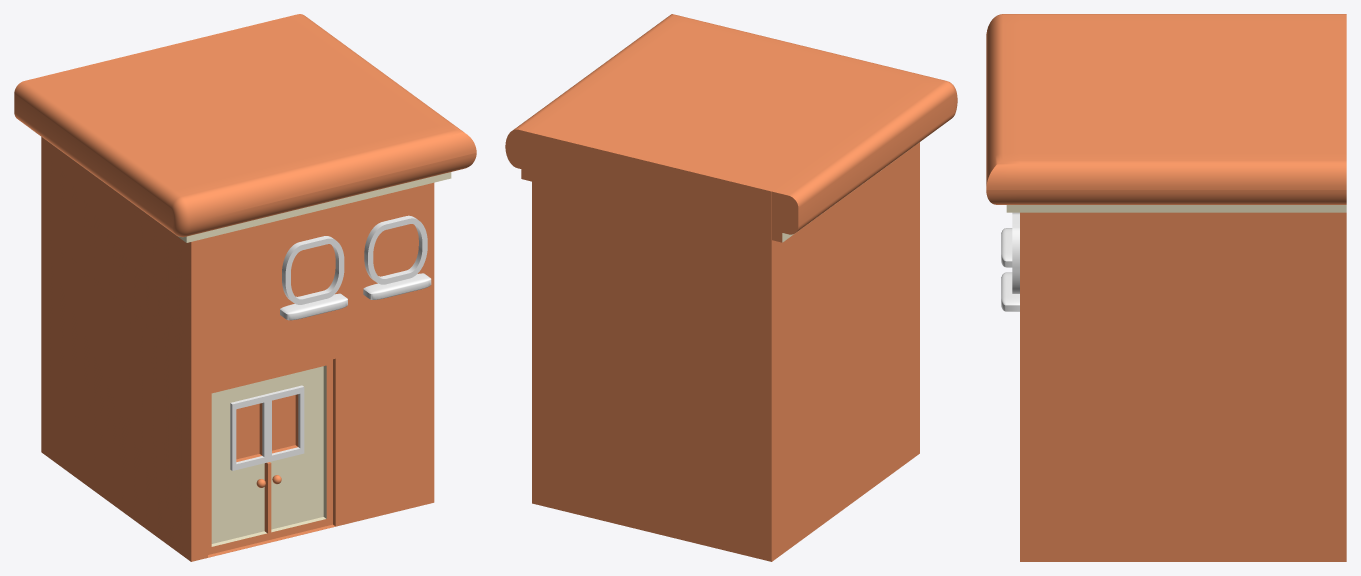
3 views of the same model, side by side, from view 1: azimuth 30°, elevation 25°; view 2: azimuth 150°, elevation 25°; view 3: azimuth 270°, elevation 25° (orthographic). The views are drawn at different scales.
Parts seen in each view (by area): view 1: B3; view 2: B3; view 3: B3.
Part boxes in pixels (x1,y1,x2,y2): B3: (14,14,476,561); B3: (505,14,957,561); B3: (986,14,1346,561).
Size of the model in its own units: 5514 by 6660 by 5325.
